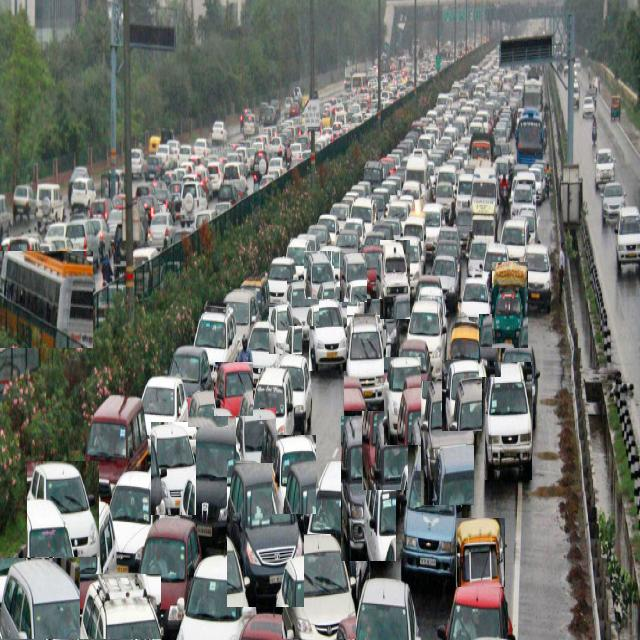autorickshaw: (456, 518, 505, 587)
bus: (0, 251, 93, 348)
car: (228, 460, 304, 607), (181, 419, 251, 546), (309, 459, 372, 597), (341, 416, 396, 561), (401, 446, 461, 578), (282, 534, 356, 639), (84, 395, 149, 501), (55, 502, 116, 613), (28, 462, 99, 557), (421, 382, 474, 505), (0, 558, 80, 639), (179, 558, 256, 638), (110, 473, 168, 571), (485, 363, 532, 480), (80, 574, 161, 640), (362, 387, 408, 490), (151, 422, 196, 515), (445, 579, 514, 639), (344, 315, 386, 411), (352, 579, 418, 640), (142, 376, 189, 450), (272, 435, 316, 514), (384, 358, 421, 445), (502, 344, 540, 426), (254, 366, 295, 438), (195, 304, 239, 371), (408, 299, 446, 375), (442, 361, 482, 431), (449, 320, 485, 394), (310, 299, 347, 371), (280, 355, 312, 435), (249, 320, 288, 383), (380, 240, 410, 319), (169, 344, 211, 399), (236, 409, 276, 463), (215, 363, 253, 416), (224, 288, 261, 340), (369, 294, 400, 356), (524, 243, 551, 311), (615, 206, 640, 274), (269, 304, 302, 354), (399, 235, 424, 298), (304, 251, 334, 299), (432, 254, 459, 307), (288, 280, 319, 326), (332, 280, 365, 322), (479, 315, 501, 377), (501, 216, 530, 263), (241, 275, 271, 320), (189, 393, 228, 427), (341, 253, 367, 302), (268, 256, 296, 300), (418, 286, 448, 327), (459, 278, 491, 316), (361, 246, 382, 299), (482, 243, 509, 284), (468, 238, 494, 276), (602, 182, 625, 223), (595, 147, 615, 188), (304, 328, 311, 342)
truck: (492, 262, 528, 348)
